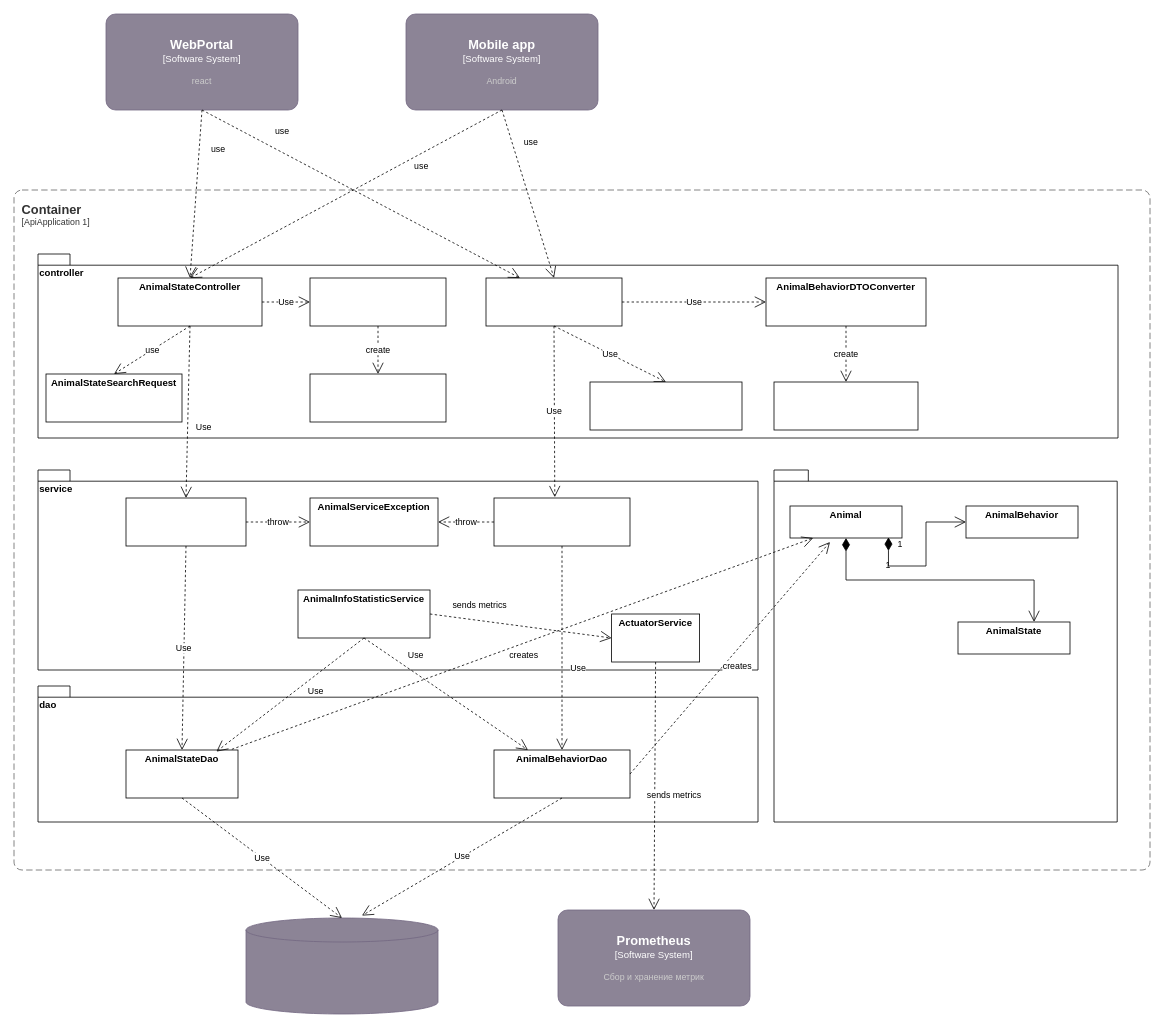
Some shapes in this 1164 by 1028 pixel diagram are drawn without their labels. Here are the shapes that lost their labels. From the top down, the box of each, then its label:
(309, 277, 446, 326): AnimalStateDTOConverter
(485, 277, 622, 326): AnimalBehaviorController
(309, 373, 446, 422): AnimalStateResponse
(589, 381, 742, 430): AnimalBehaviorSearchRequest
(773, 381, 918, 430): AnimalBehaviorResponse
(125, 497, 246, 546): AnimalStateService
(493, 497, 630, 546): AnimalBehaviorService
(773, 469, 1117, 822): model
(245, 917, 438, 1014): Data Warehouse [Container: Clickhouse] Структурированные данные
